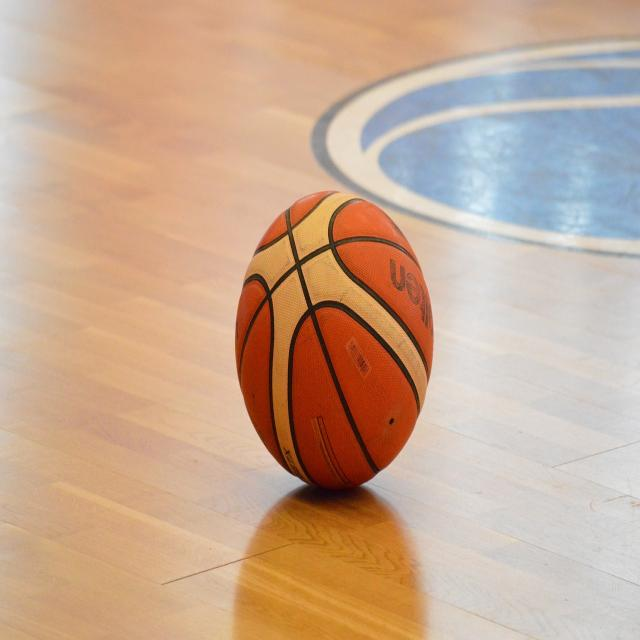Basketball: (234, 187, 434, 488)
